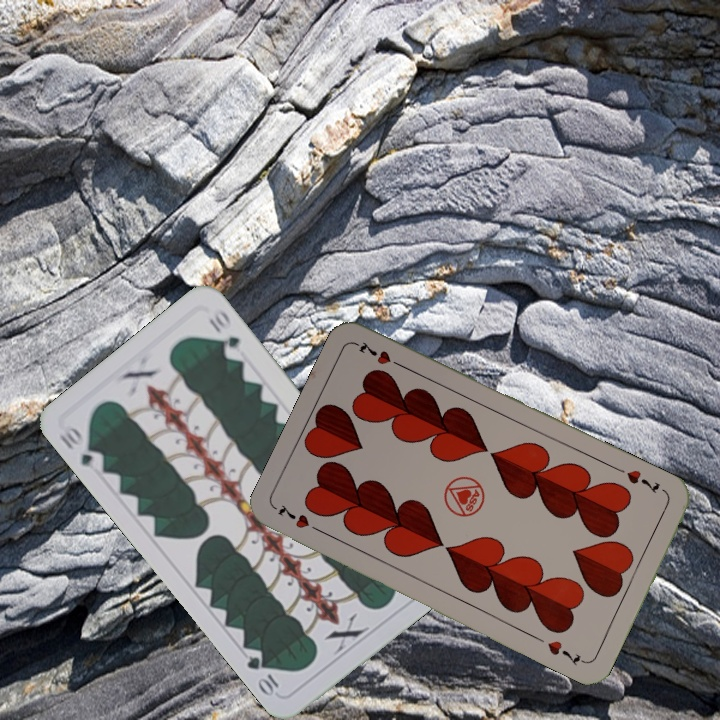G10: (55, 422, 107, 475)
H7: (274, 500, 327, 537), (622, 466, 663, 497)
